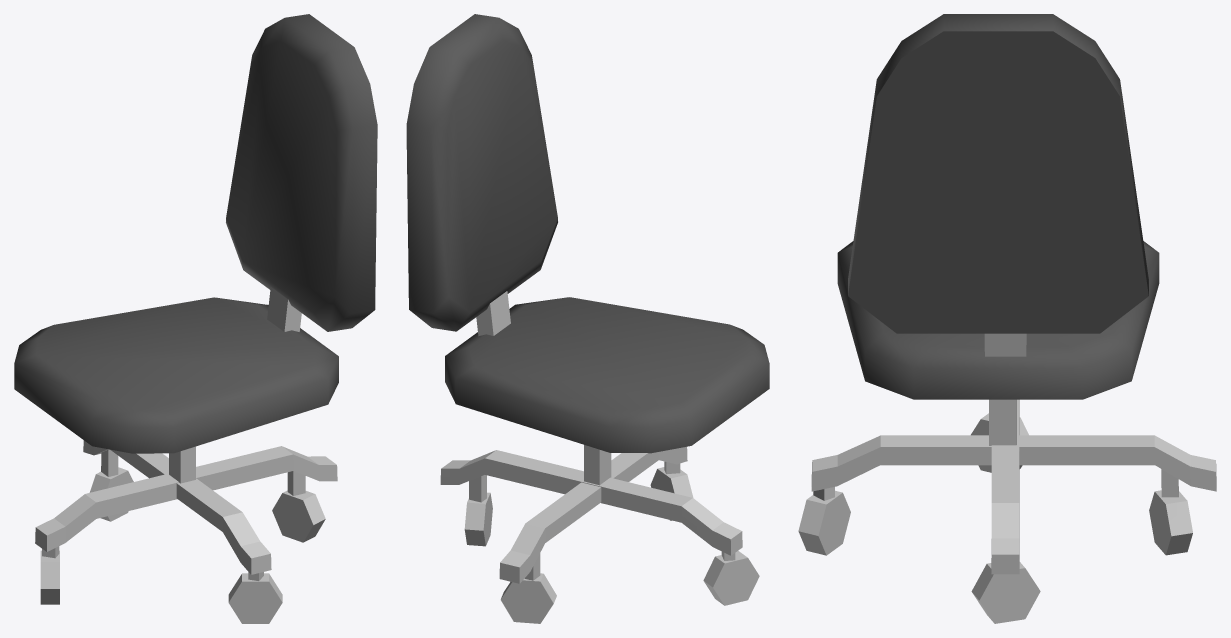
Rendered from SM_Chair_01.fbx.
The picture shows the model from 3 angles, left to right: view 1: azimuth 30°, elevation 25°; view 2: azimuth 150°, elevation 25°; view 3: azimuth 270°, elevation 25°; orthographic projection. The views are drawn at different scales.
Parts seen in each view (by area): view 1: SM_Chair_01; view 2: SM_Chair_01; view 3: SM_Chair_01.
Part boxes in pixels (bbox=[...]): SM_Chair_01: bbox=[14, 14, 377, 623]; SM_Chair_01: bbox=[406, 14, 769, 623]; SM_Chair_01: bbox=[798, 14, 1216, 623].
Size of the model in its own units: 84.11 by 134 by 83.56.
